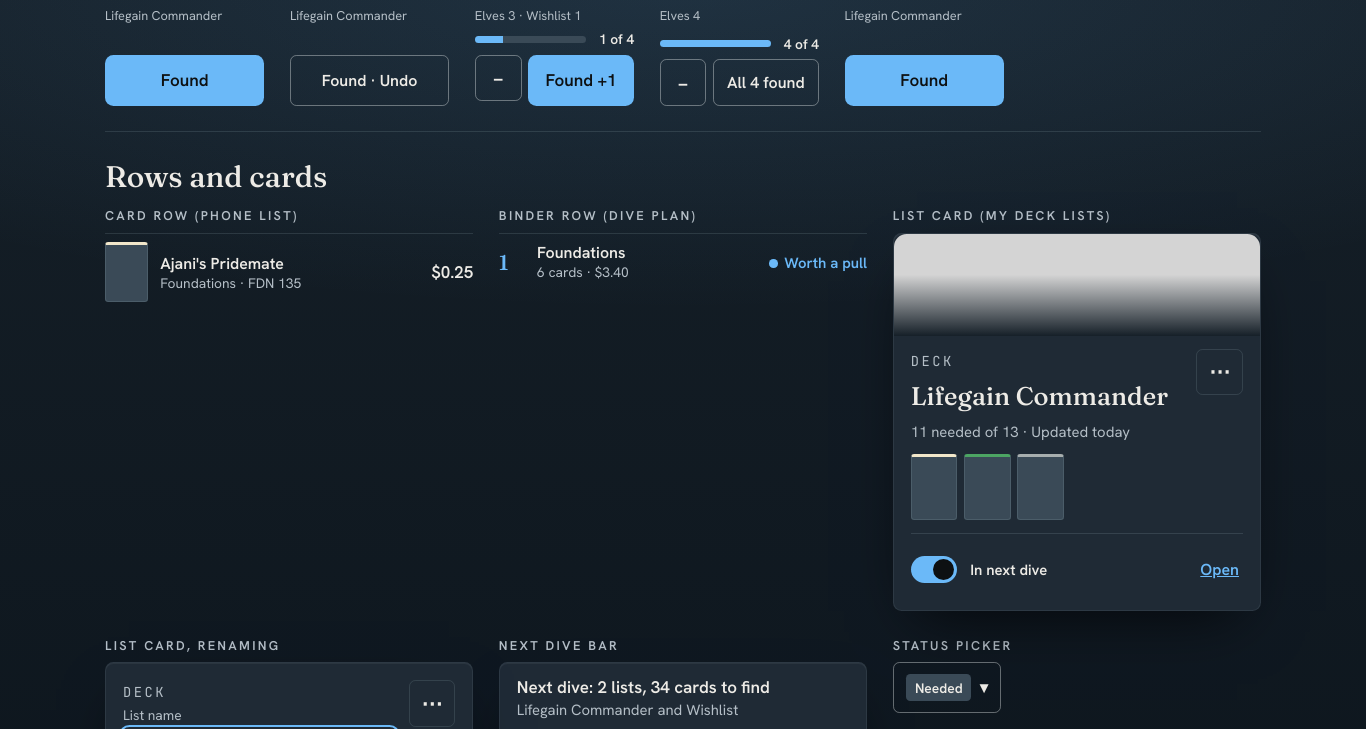
Kit gallery › the list card menu opens
The width and height of the screenshot is (1366, 729).
(page scrolled)
Click the button named "More for Lifegain Commander" at (1220, 372), box 1196,349 -> 1243,396
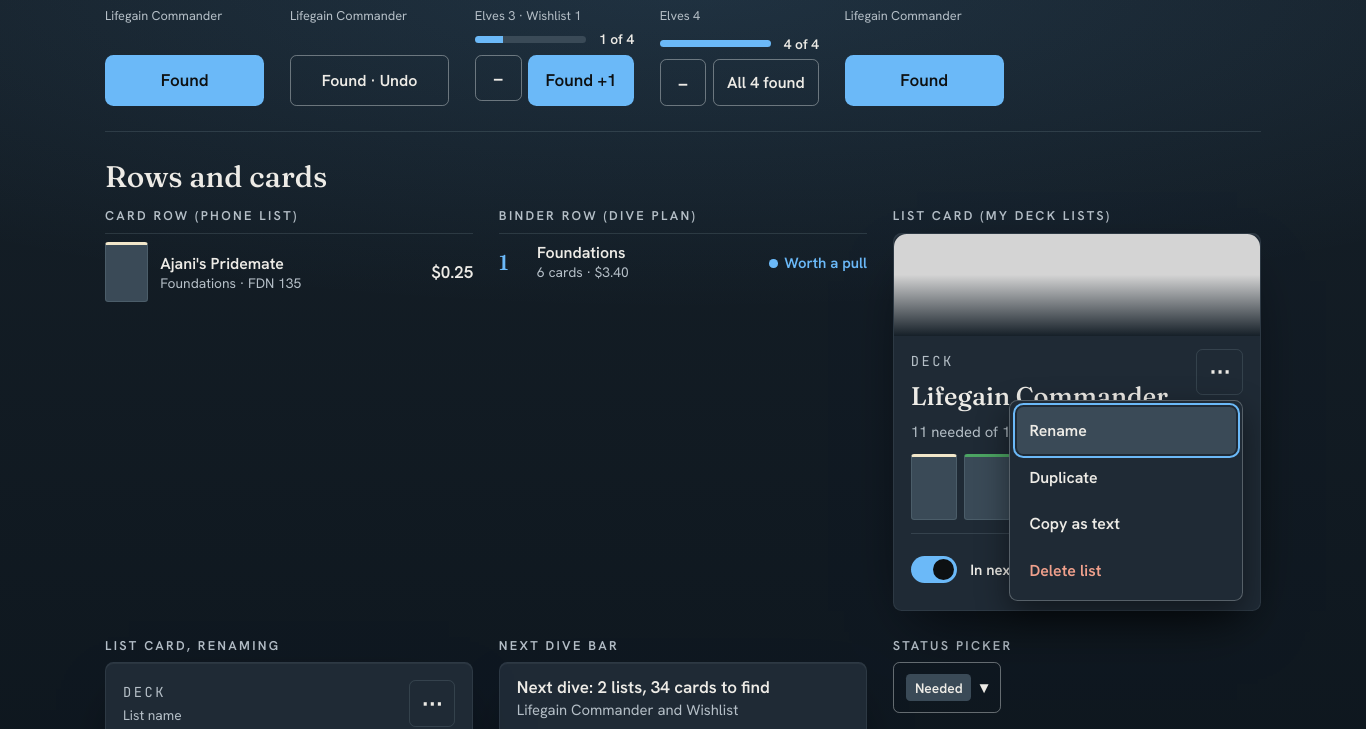
Now the menu item "Rename" is shown, box 1017,407 -> 1236,454
